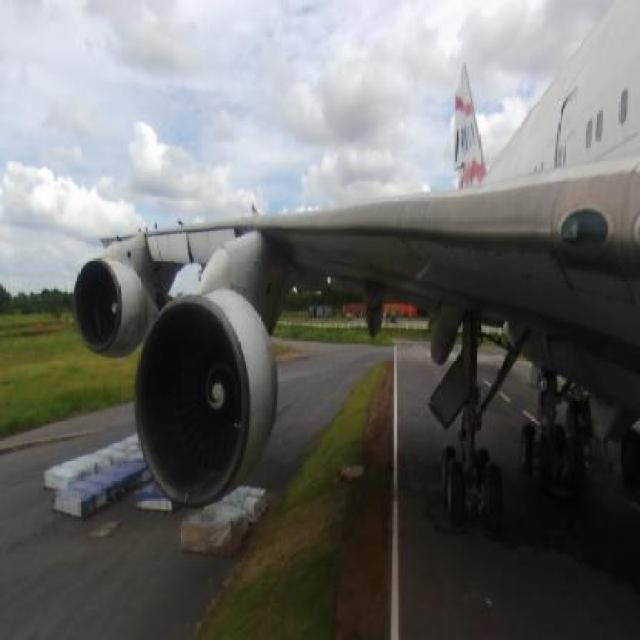Scartch: (429, 240, 548, 266)
